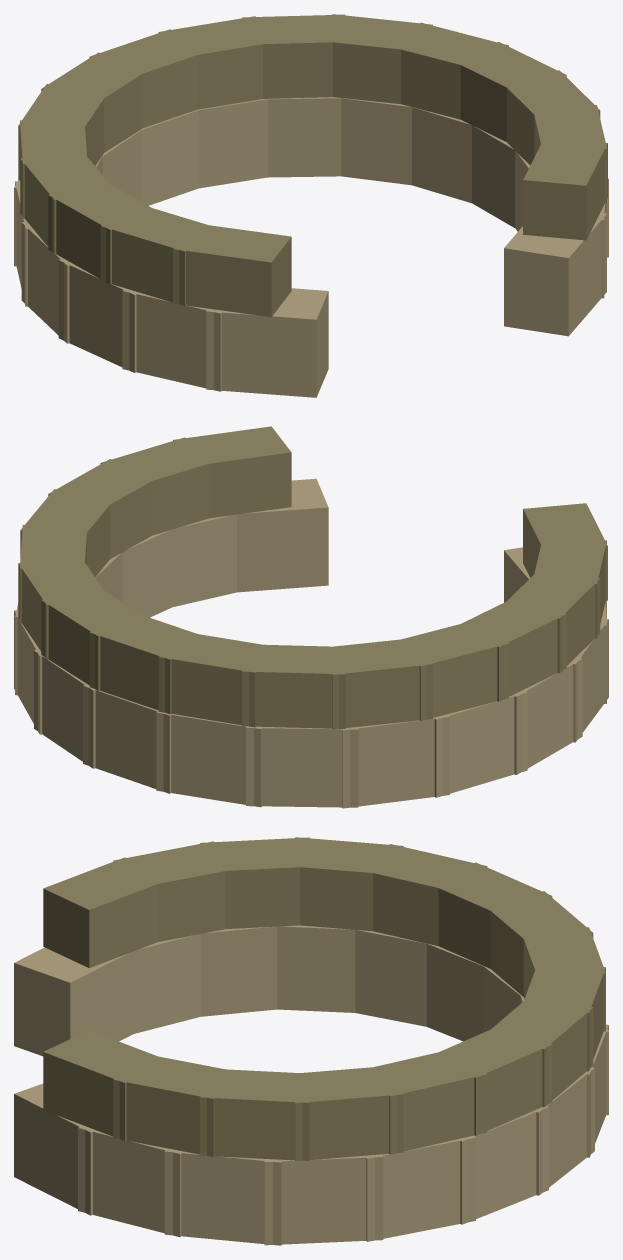
The model's file is sandbags.glb.
The picture shows the model from 3 angles, top to bottom: view 1: azimuth 30°, elevation 25°; view 2: azimuth 150°, elevation 25°; view 3: azimuth 270°, elevation 25°; orthographic projection. The views are drawn at different scales.
Parts seen in each view (by area): view 1: _MeshInstance3D_47, _MeshInstance3D_32, _MeshInstance3D_63, _MeshInstance3D_46, _MeshInstance3D_48, _MeshInstance3D_62, _MeshInstance3D_54, _MeshInstance3D_53, _MeshInstance3D_55, _MeshInstance3D_38, _MeshInstance3D_37, _MeshInstance3D_56 (+18 smaller); view 2: _MeshInstance3D_32, _MeshInstance3D_57, _MeshInstance3D_41, _MeshInstance3D_42, _MeshInstance3D_48, _MeshInstance3D_40, _MeshInstance3D_58, _MeshInstance3D_56, _MeshInstance3D_55, _MeshInstance3D_59, _MeshInstance3D_43, _MeshInstance3D_39 (+18 smaller); view 3: _MeshInstance3D_47, _MeshInstance3D_63, _MeshInstance3D_35, _MeshInstance3D_34, _MeshInstance3D_49, _MeshInstance3D_51, _MeshInstance3D_50, _MeshInstance3D_52, _MeshInstance3D_36, _MeshInstance3D_48, _MeshInstance3D_33, _MeshInstance3D_61 (+19 smaller).
Boxes of the visible parts, x1,y1,x2,y2 form: _MeshInstance3D_47: (206, 288, 328, 397); _MeshInstance3D_32: (504, 212, 606, 336); _MeshInstance3D_63: (173, 223, 291, 317); _MeshInstance3D_46: (122, 290, 223, 391); _MeshInstance3D_48: (523, 141, 607, 240); _MeshInstance3D_62: (100, 208, 221, 306); _MeshInstance3D_54: (242, 14, 347, 98); _MeshInstance3D_53: (317, 14, 432, 104); _MeshInstance3D_55: (158, 16, 271, 109); _MeshInstance3D_38: (263, 97, 341, 177); _MeshInstance3D_37: (333, 97, 411, 185); _MeshInstance3D_56: (89, 29, 210, 127); _MeshInstance3D_32: (237, 478, 328, 592); _MeshInstance3D_57: (242, 644, 349, 728); _MeshInstance3D_41: (246, 726, 358, 807); _MeshInstance3D_42: (342, 714, 449, 808); _MeshInstance3D_48: (173, 426, 291, 518); _MeshInstance3D_40: (156, 711, 262, 807); _MeshInstance3D_58: (330, 637, 432, 729); _MeshInstance3D_56: (158, 633, 276, 727); _MeshInstance3D_55: (89, 611, 210, 714); _MeshInstance3D_59: (394, 620, 508, 720); _MeshInstance3D_43: (434, 690, 527, 797); _MeshInstance3D_39: (83, 685, 172, 793); _MeshInstance3D_47: (14, 947, 133, 1056); _MeshInstance3D_63: (43, 857, 170, 968); _MeshInstance3D_35: (264, 1154, 383, 1245); _MeshInstance3D_34: (164, 1148, 281, 1245); _MeshInstance3D_49: (113, 1053, 241, 1156); _MeshInstance3D_51: (283, 1066, 403, 1161); _MeshInstance3D_50: (200, 1069, 317, 1160); _MeshInstance3D_52: (358, 1050, 487, 1154); _MeshInstance3D_36: (366, 1135, 475, 1241); _MeshInstance3D_48: (43, 1030, 168, 1140); _MeshInstance3D_33: (78, 1125, 182, 1237); _MeshInstance3D_61: (200, 837, 317, 928).
Size of the model in its own units: 6.92 by 1.7 by 6.48.
